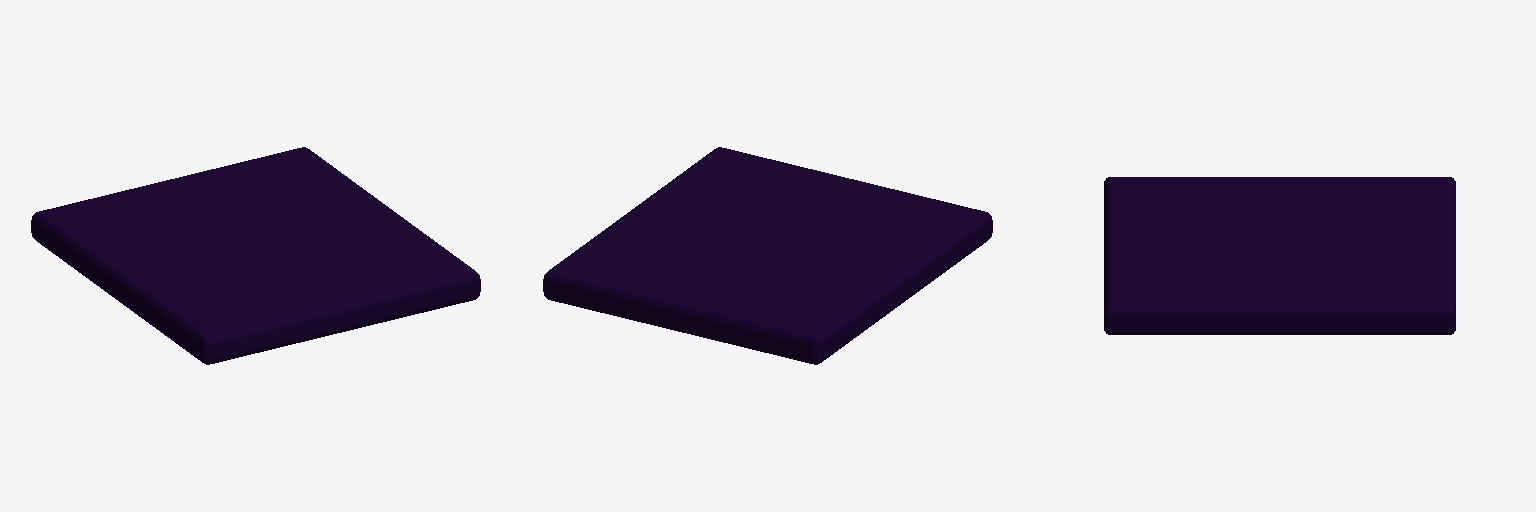
The model's file is PurpleMat.obj.
3 views of the same model, side by side, from view 1: azimuth 30°, elevation 25°; view 2: azimuth 150°, elevation 25°; view 3: azimuth 270°, elevation 25° (orthographic).
Parts seen in each view (by area): view 1: Purple_Mat_3_10_Plane.023; view 2: Purple_Mat_3_10_Plane.023; view 3: Purple_Mat_3_10_Plane.023.
Part boxes in pixels (x1,y1,x2,y2): Purple_Mat_3_10_Plane.023: (31, 147, 480, 364); Purple_Mat_3_10_Plane.023: (543, 147, 992, 364); Purple_Mat_3_10_Plane.023: (1104, 177, 1455, 334).
Bounding box in the file's own units: 0.8763 × 0.0858 × 0.9621.